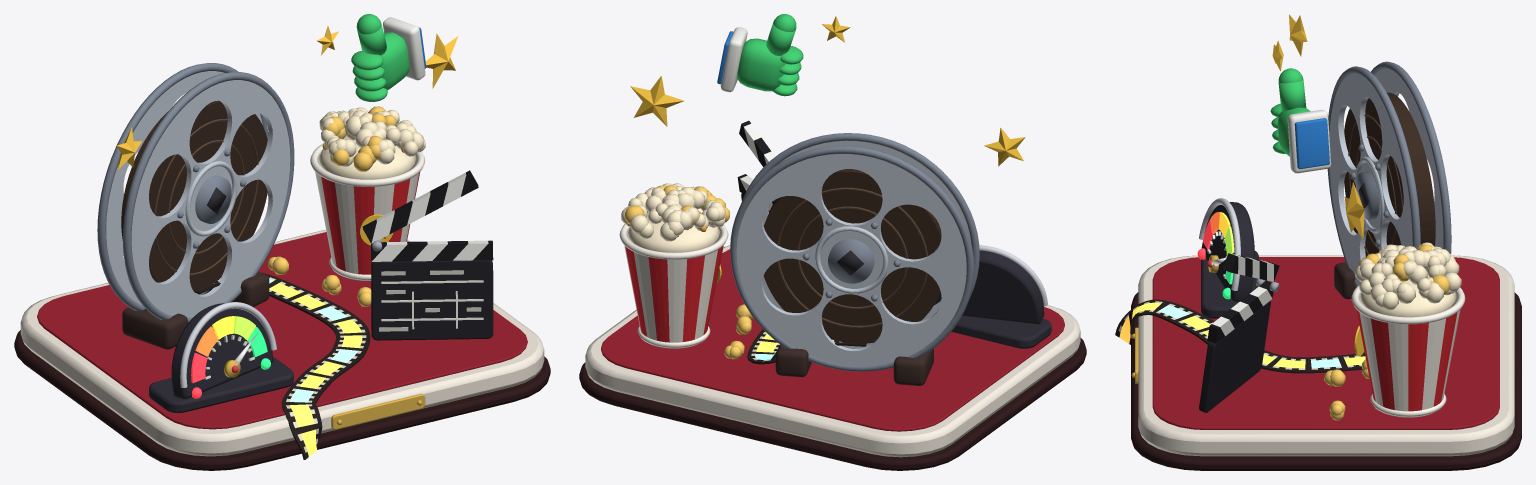
Rendered from imdb_reel.glb.
3 views of the same model, side by side, from view 1: azimuth 30°, elevation 25°; view 2: azimuth 150°, elevation 25°; view 3: azimuth 270°, elevation 25° (orthographic). The views are drawn at different scales.
Visible parts, largest first — view 1: imdb_reel; view 2: imdb_reel; view 3: imdb_reel.
Part boxes in pixels (x1,y1,x2,y2): imdb_reel: (14,14,550,470); imdb_reel: (579,14,1086,470); imdb_reel: (1115,14,1521,470).
Size of the model in its own units: 1 by 0.8548 by 0.9063.
